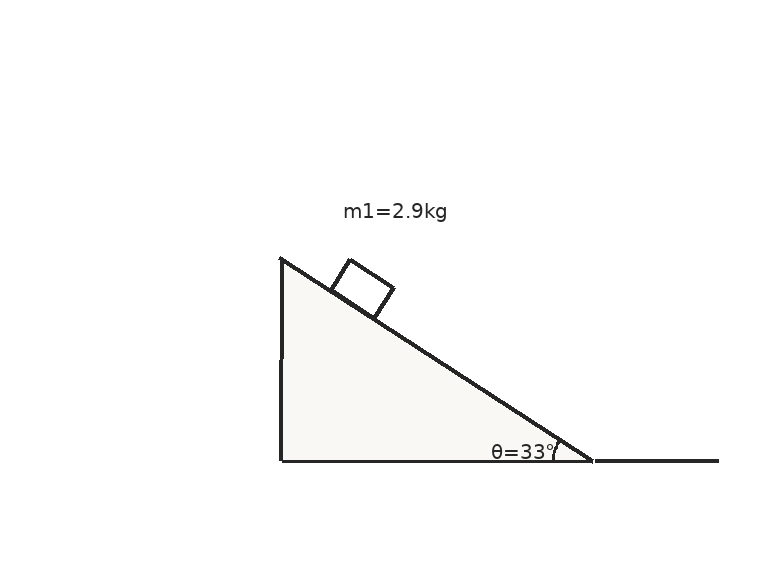block: (328, 257, 395, 320)
ramp: (279, 256, 595, 463)
